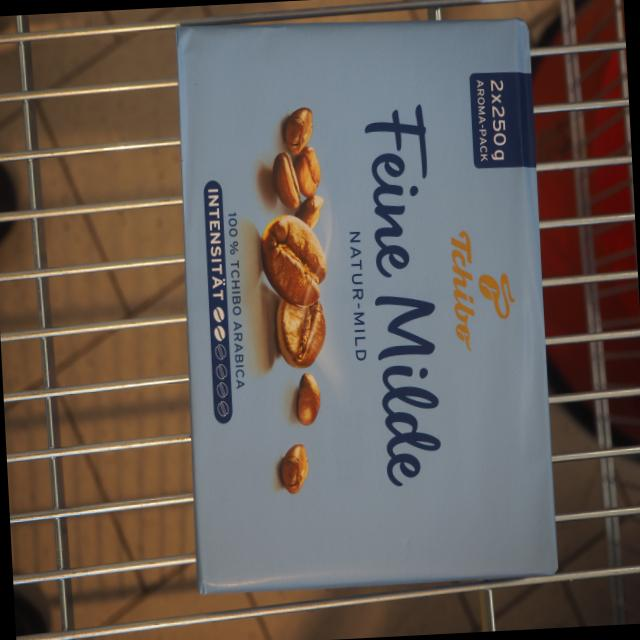FM Gemahlen: (173, 12, 563, 600)
